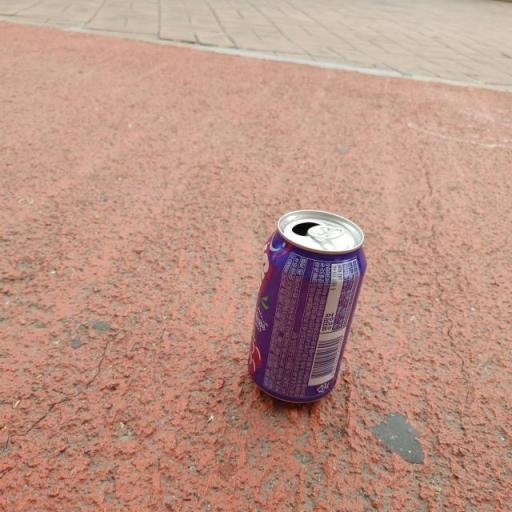metal: (220, 193, 392, 432)
